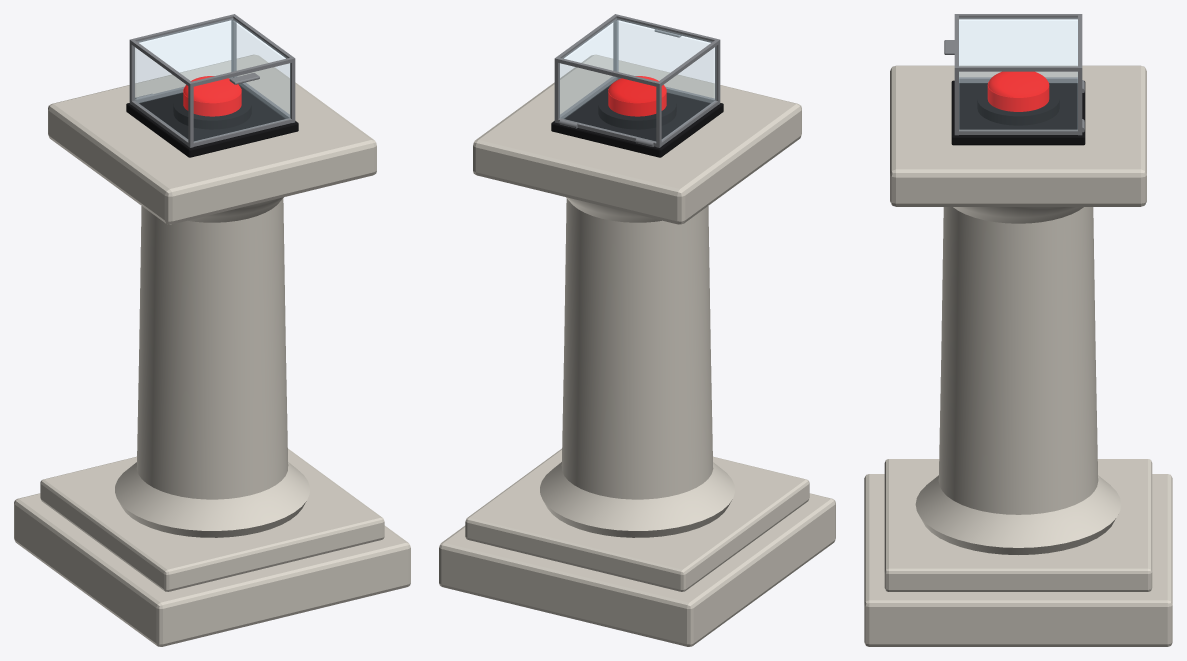
Rendered from pedestal.glb.
3 views of the same model, side by side, from view 1: azimuth 30°, elevation 25°; view 2: azimuth 150°, elevation 25°; view 3: azimuth 270°, elevation 25° (orthographic). The views are drawn at different scales.
Visible parts, largest first — view 1: Pedestal, Cover, Button; view 2: Pedestal, Cover, Button; view 3: Pedestal, Cover, Button.
Boxes of the visible parts, x1,y1,x2,y2 form: Pedestal: (14, 54, 410, 646); Cover: (129, 14, 295, 147); Button: (183, 76, 241, 116); Pedestal: (439, 54, 835, 646); Cover: (554, 14, 720, 147); Button: (608, 76, 666, 116); Pedestal: (864, 65, 1172, 646); Cover: (944, 14, 1082, 135); Button: (987, 71, 1049, 111).
Bounding box in the file's own units: 0.6 × 1.16 × 0.6.
